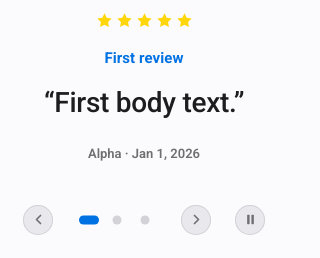
it: ReviewsCarousel › wraps to the last review with the Previous control
The image size is (320, 258).
Click the button named "Previous review".
click(38, 220)  # box top-left (16, 198), bottom-right (60, 242)
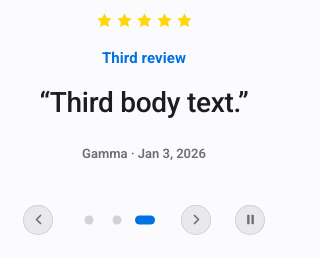
Expected: the heading reads "Third review", top-left (102, 49), bottom-right (186, 67)
